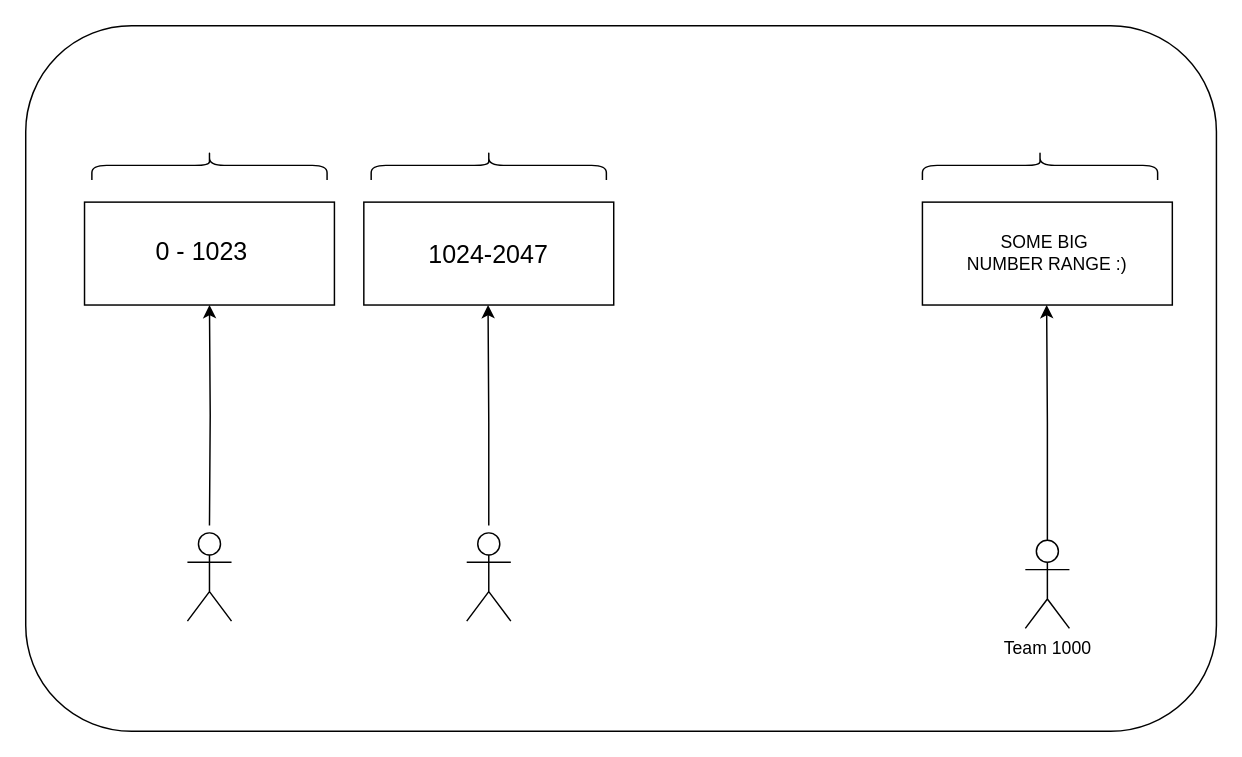
The diagram is 1242 pixels wide and 757 high, and some of its shapes have lost their labels. The shapes that lost their labels are listed below. From the top down, each one's centre as x and y in pixels, then its label:
pixel 209 576: Team 1
pixel 488 576: Team 2
